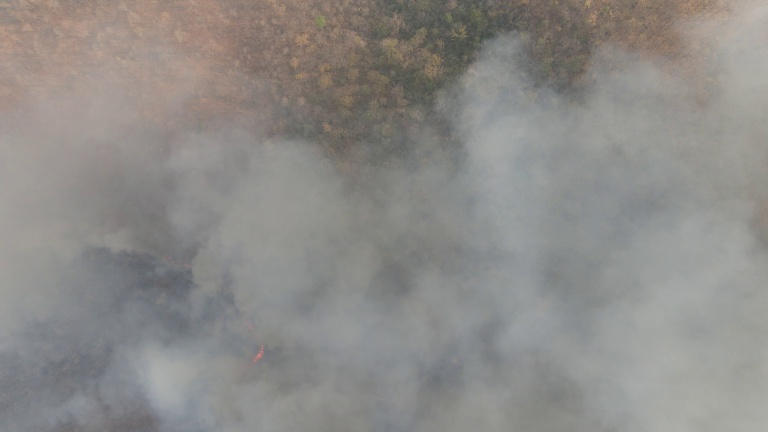fire: (227, 319, 264, 375)
smoke: (45, 92, 768, 432)
